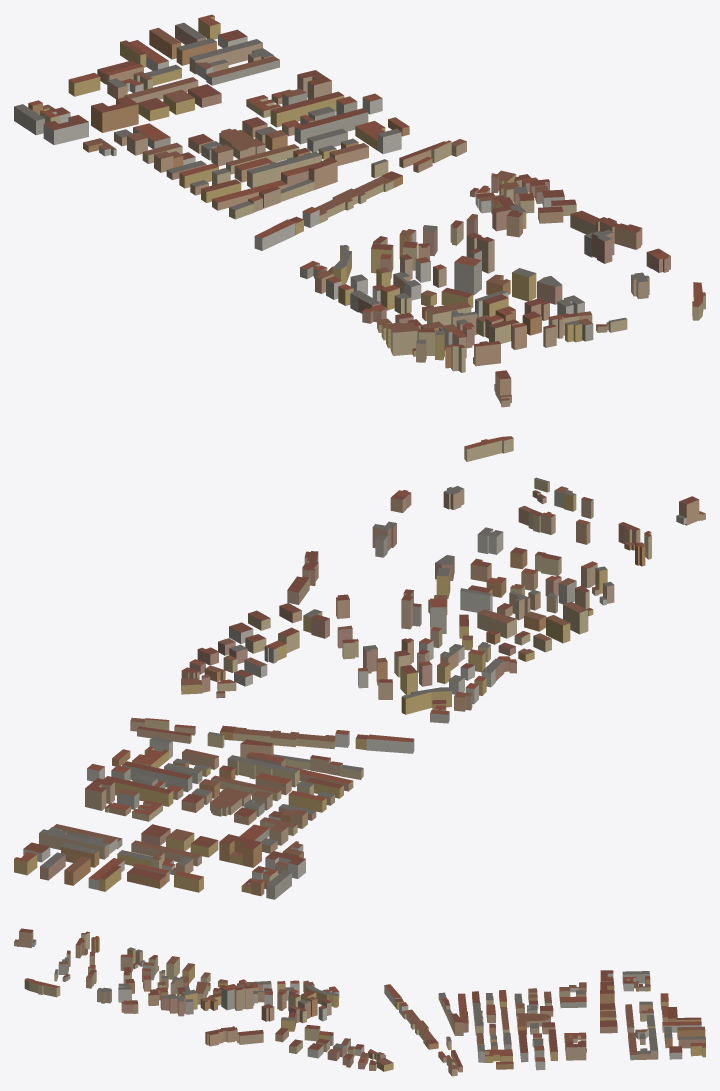
File: SM_Fondale_Citta_NO_03.fbx
3 views of the same model, one above another, from view 1: azimuth 30°, elevation 25°; view 2: azimuth 150°, elevation 25°; view 3: azimuth 270°, elevation 25° (orthographic). The views are drawn at different scales.
Visible parts, largest first — view 1: SM_Fondale_Citta_NO_03; view 2: SM_Fondale_Citta_NO_03; view 3: SM_Fondale_Citta_NO_03.
Boxes of the visible parts, x1,y1,x2,y2 form: SM_Fondale_Citta_NO_03: (14, 14, 705, 407); SM_Fondale_Citta_NO_03: (14, 436, 705, 899); SM_Fondale_Citta_NO_03: (14, 928, 705, 1076).
Size of the model in its own units: 35126 by 102466 by 11523.
